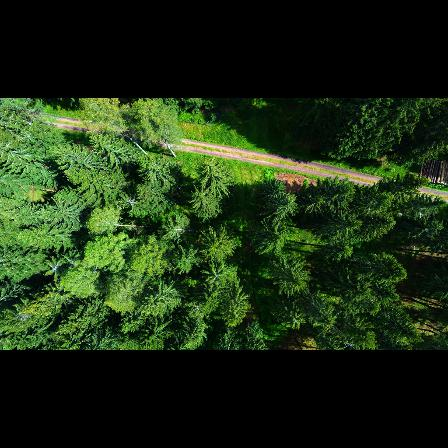Sick: (36, 253, 66, 281)
